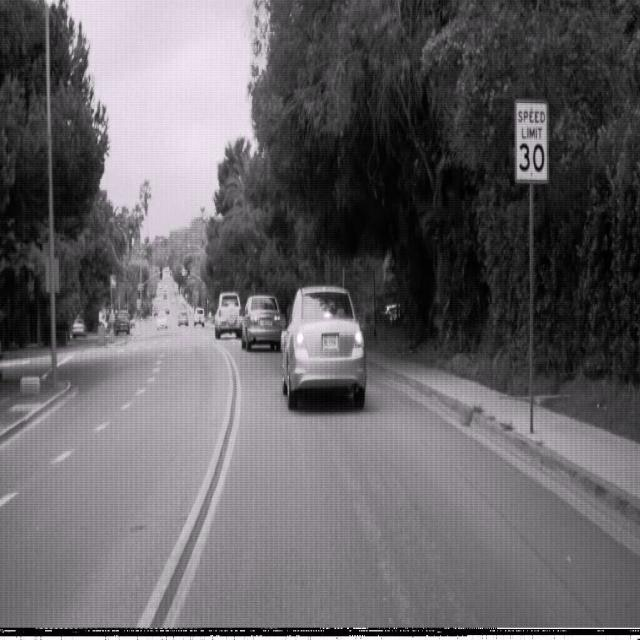speedLimit30: (514, 98, 548, 183)
